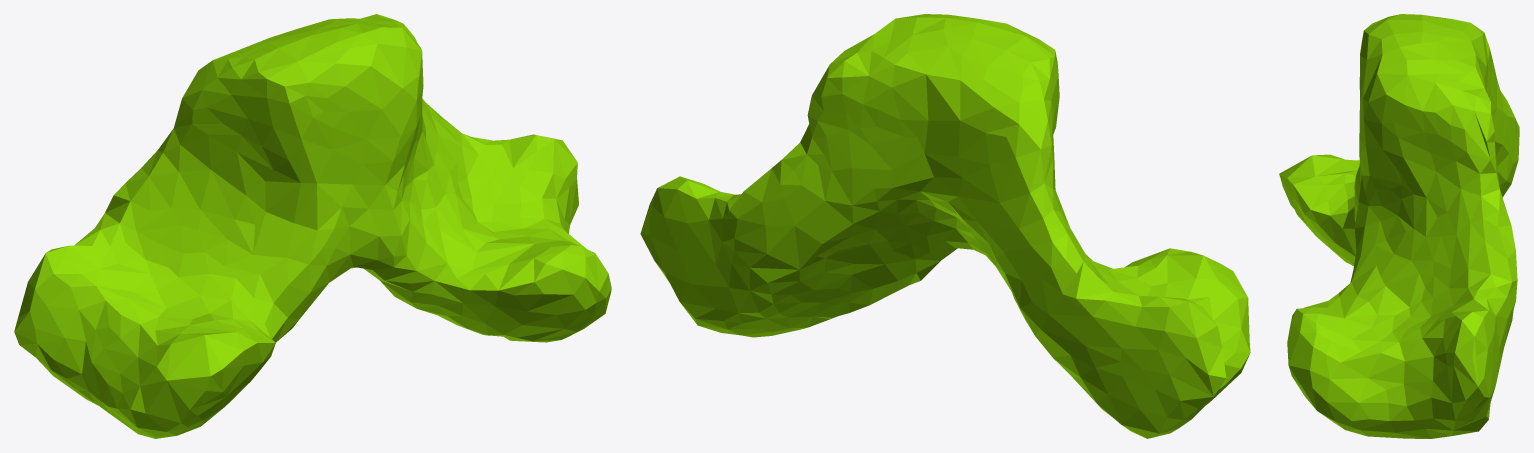
Rendered from 181-23-area 23 of cortex-('0.6510', '1.0000', '0.0000').obj.
3 views of the same model, side by side, from view 1: azimuth 30°, elevation 25°; view 2: azimuth 150°, elevation 25°; view 3: azimuth 270°, elevation 25° (orthographic). The views are drawn at different scales.
Bounding box in the file's own units: 107 × 61.5 × 42.6.
